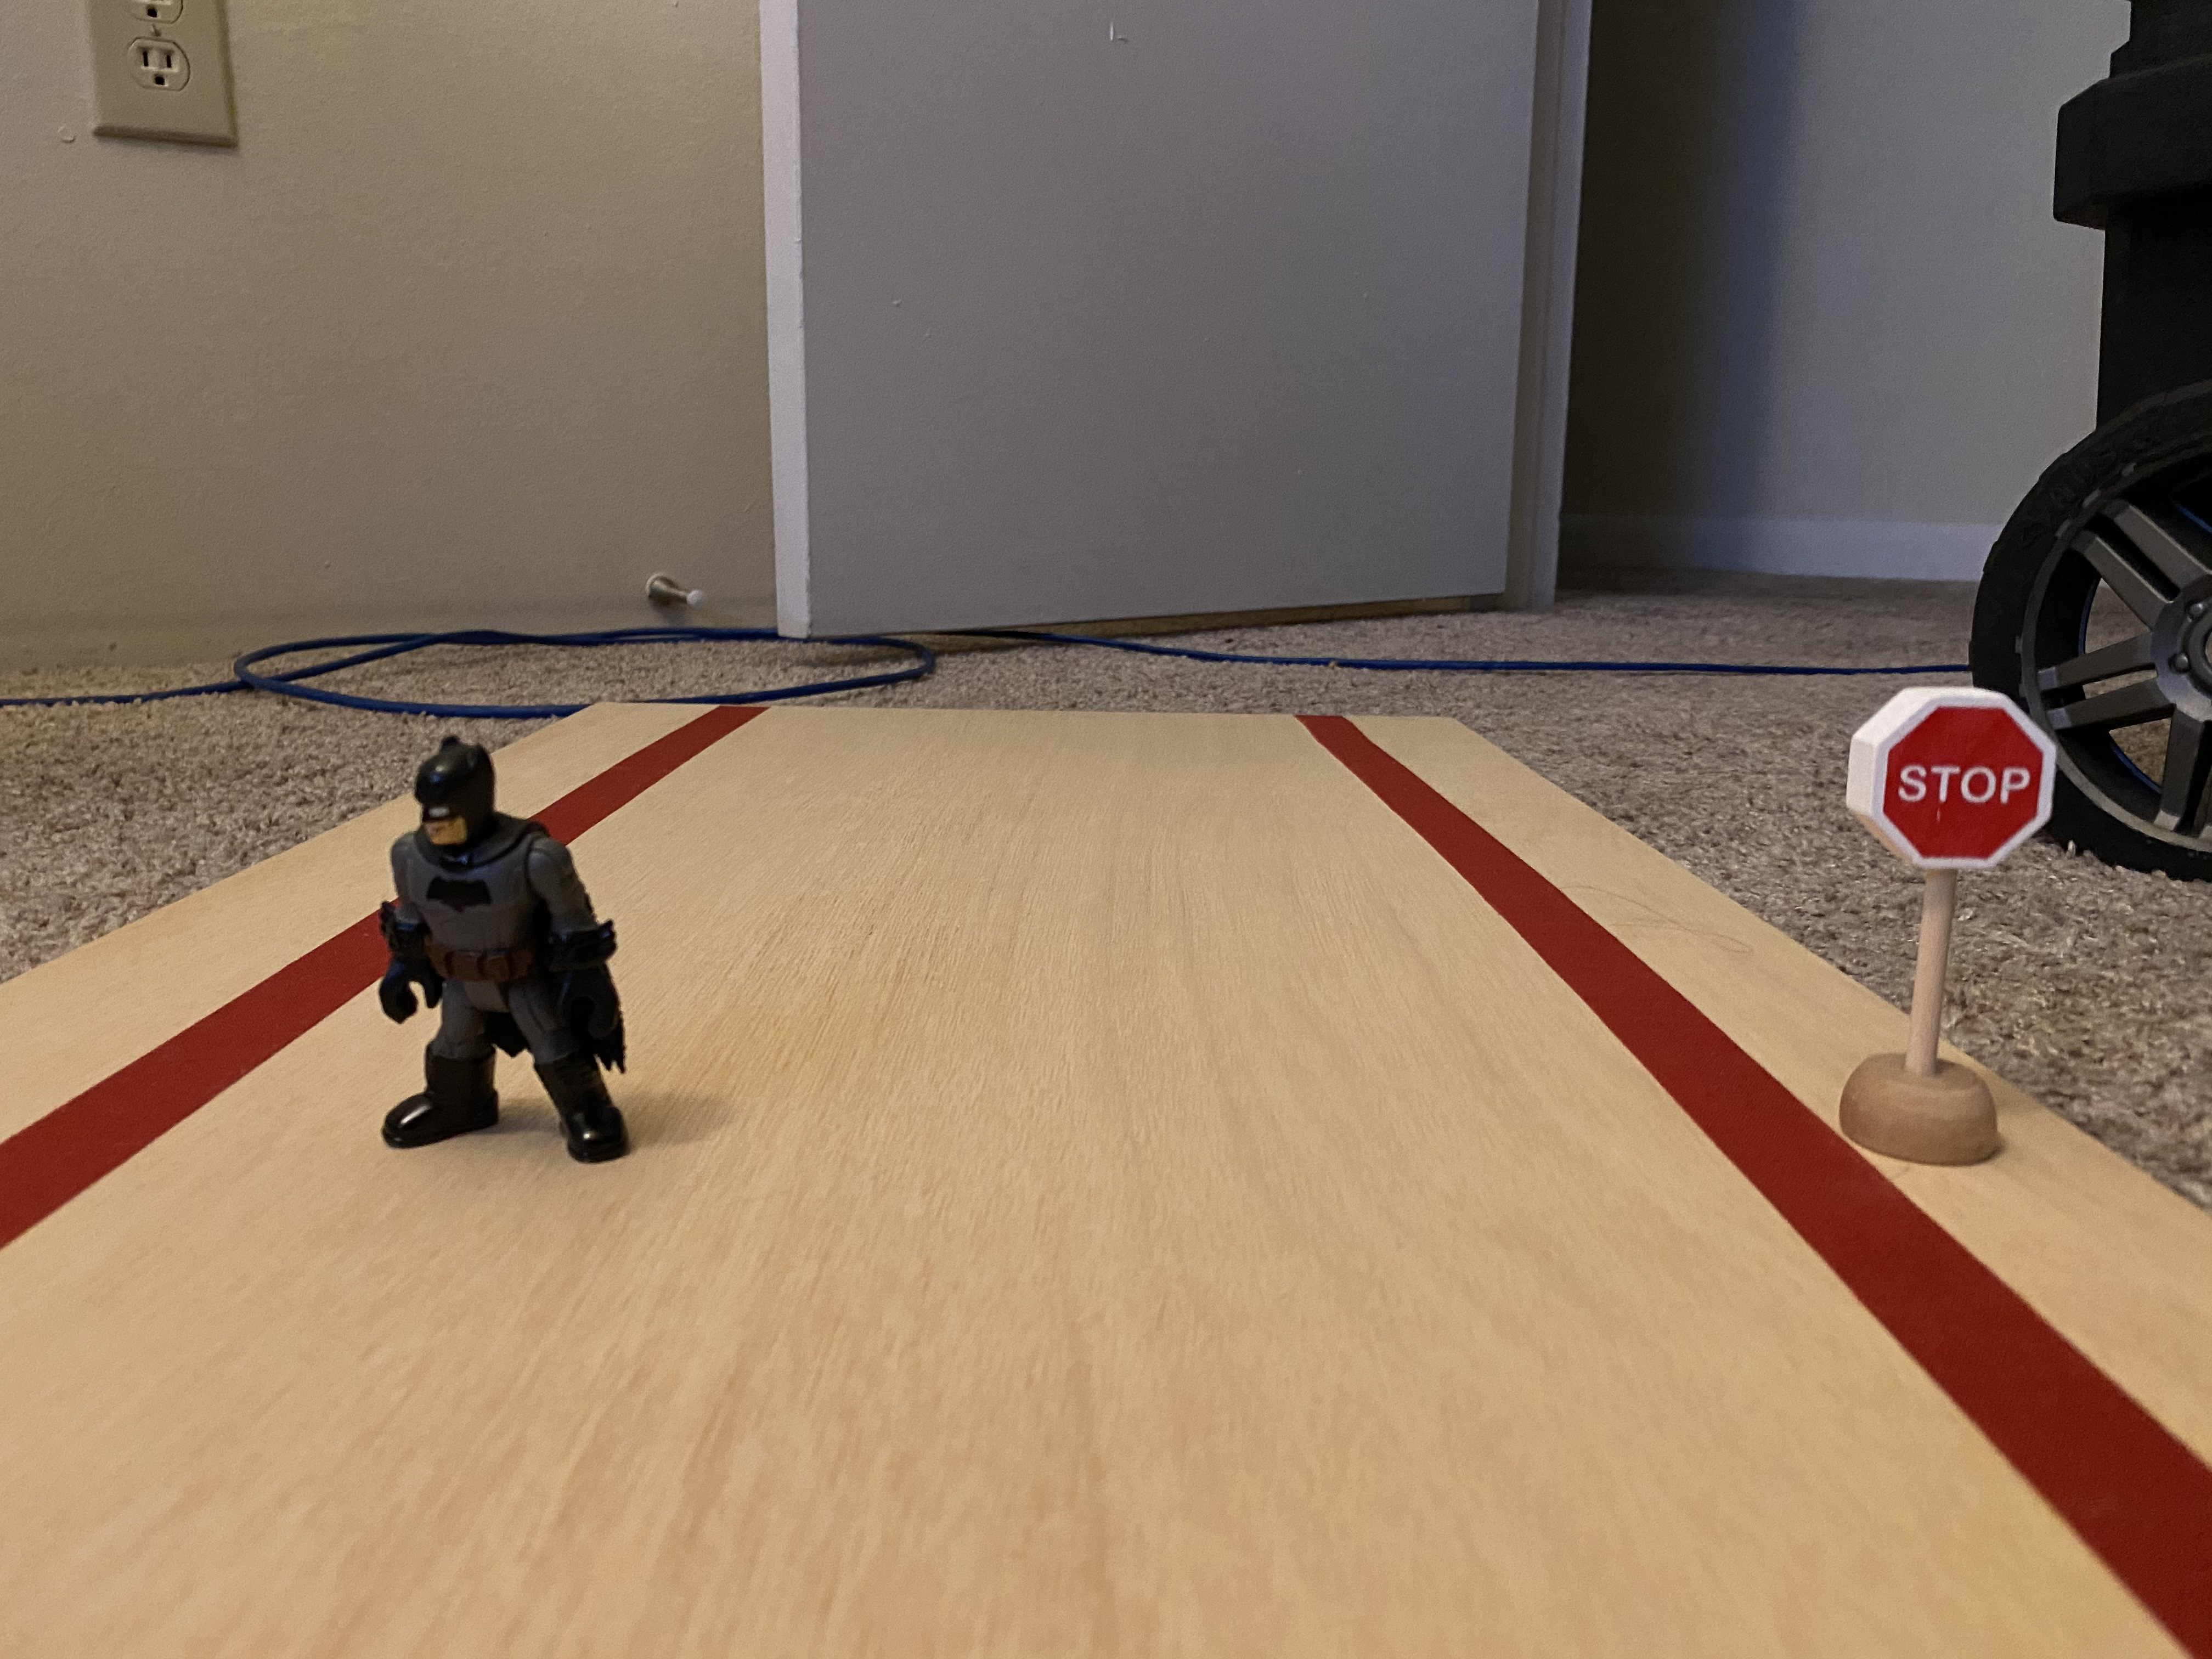Person: (319, 720, 690, 1177)
Stop Sign: (1824, 674, 2089, 884)
